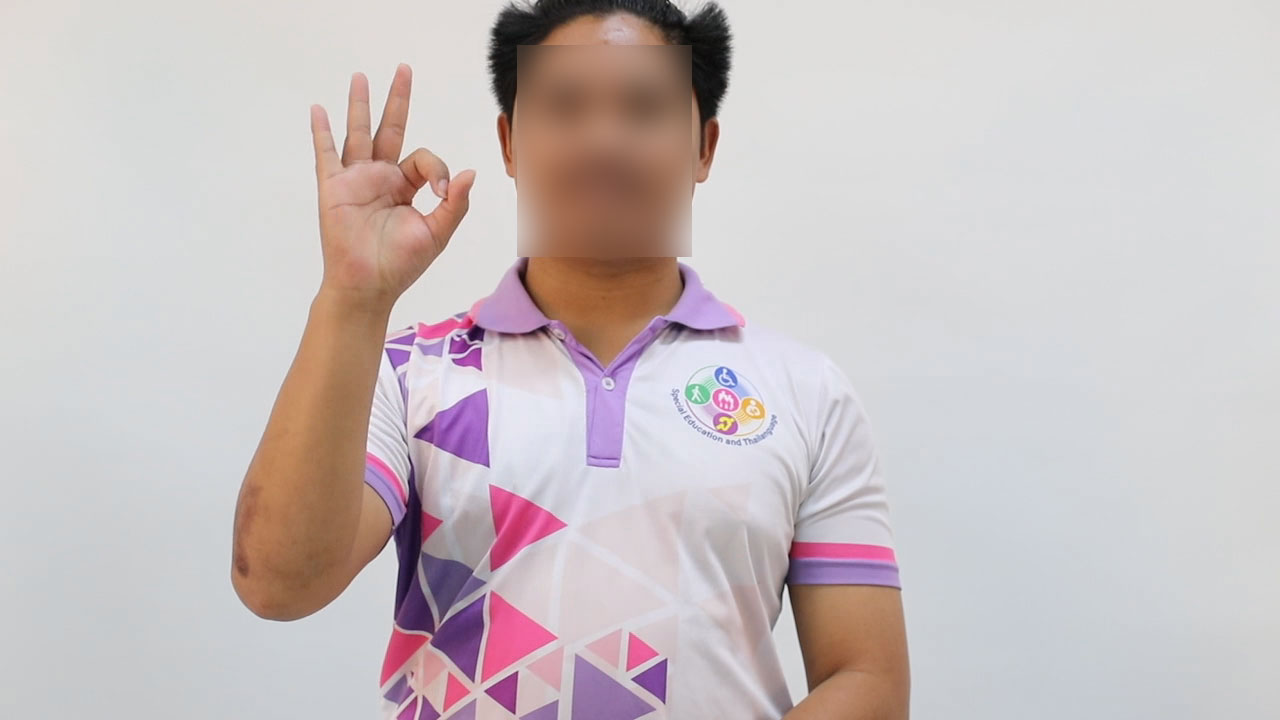for: (295, 47, 483, 317)
